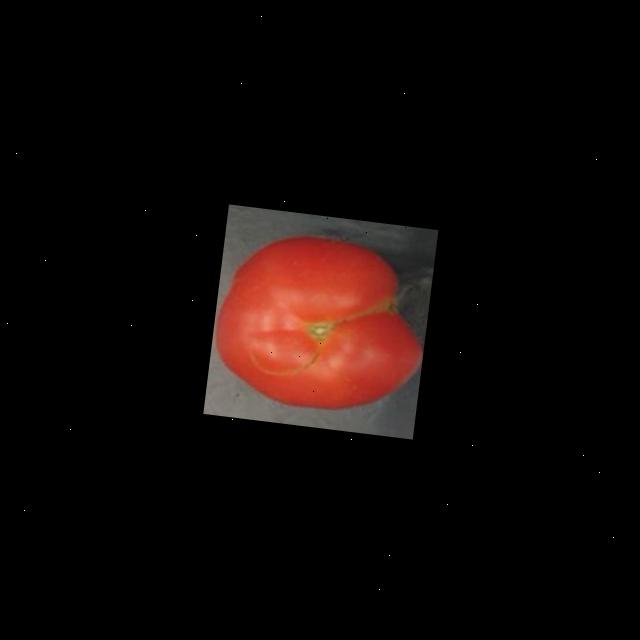tomato: (204, 222, 435, 426)
